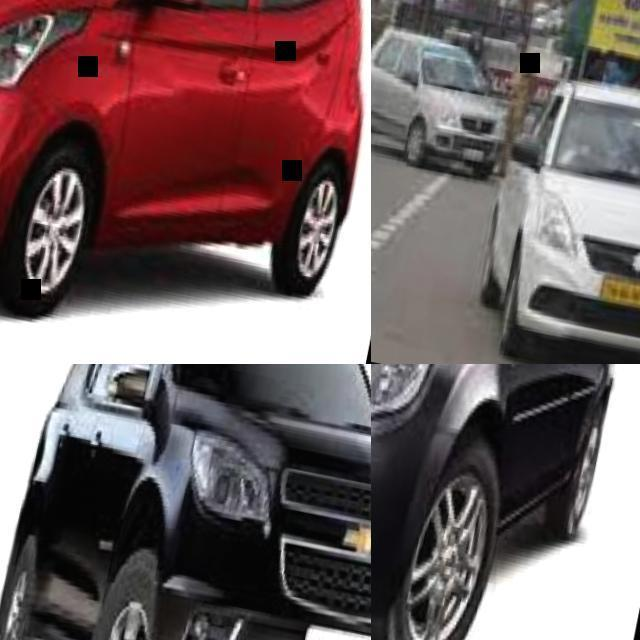car: (4, 0, 363, 302), (4, 362, 285, 639), (480, 35, 639, 356), (370, 17, 511, 184)
